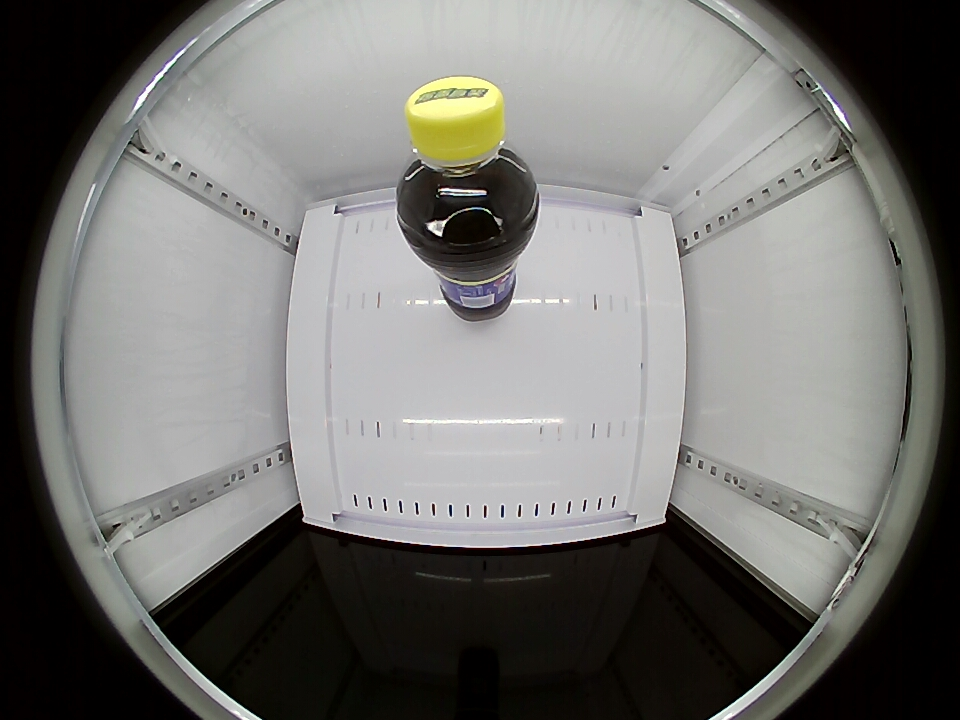baishikele: (396, 76, 536, 241)
